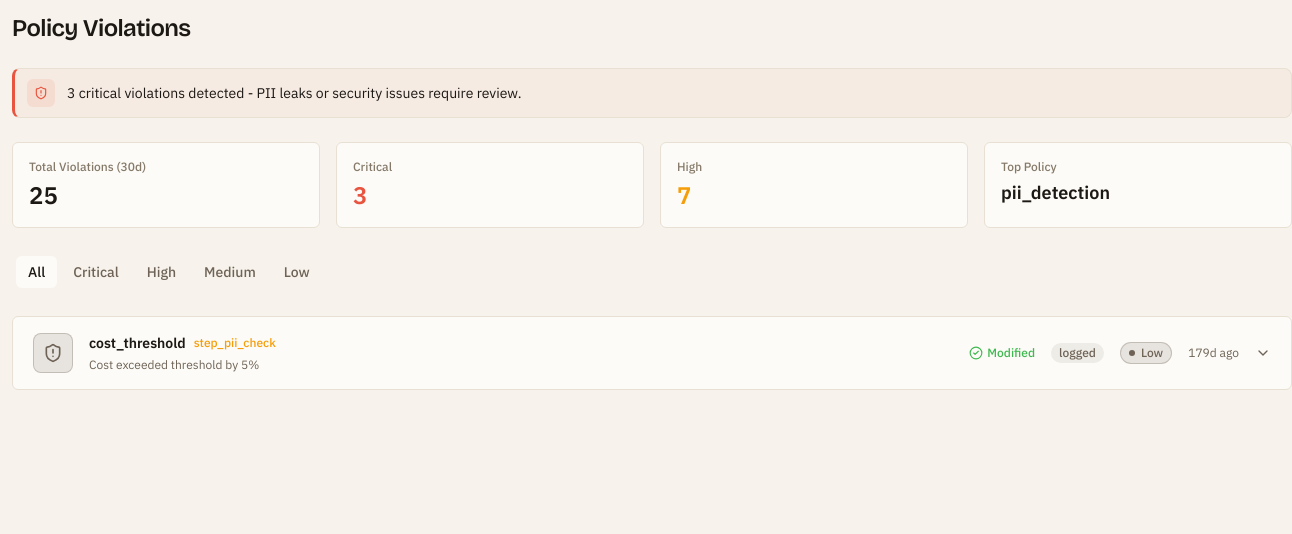
Test: ViolationsPage › shows output modified note in expanded details
Check: the text "cost_threshold" is shown, box left=89, top=333, right=186, bottom=353
What coordinates should you click on to do the following:
click the button with aria-label "expand details"
I would click on:
 (53, 353)
Its box is left=33, top=333, right=1271, bottom=373.
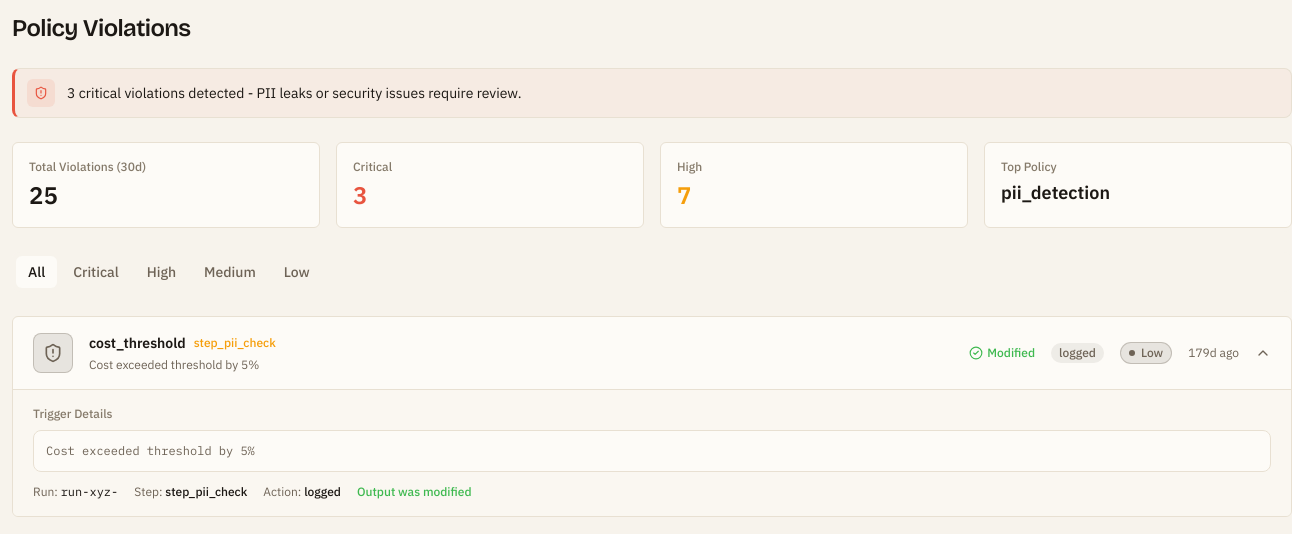
Check: the text "Output was modified" is shown, box left=357, top=484, right=472, bottom=500
